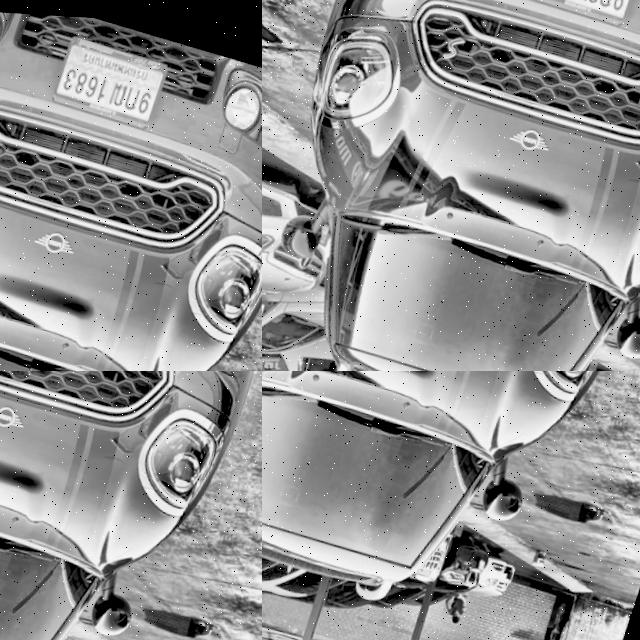license-plate: (0, 426, 42, 500)
